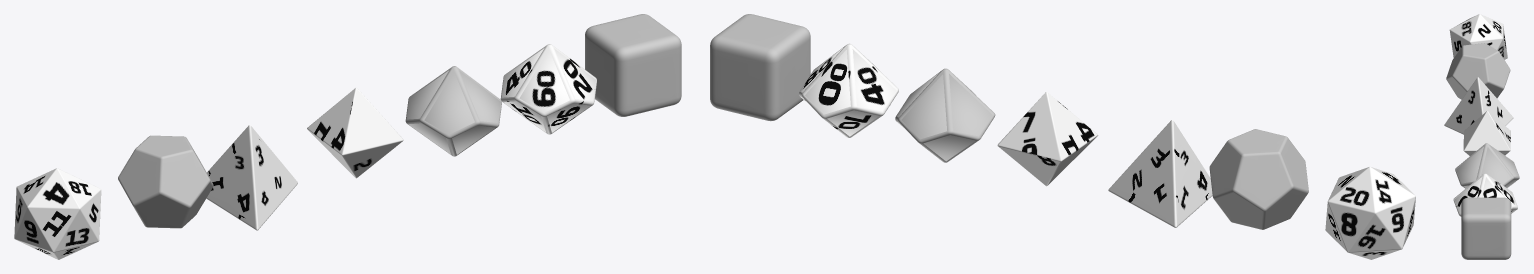
Rendered from Dados_ui.FBX.
The picture shows the model from 3 angles, left to right: view 1: azimuth 30°, elevation 25°; view 2: azimuth 150°, elevation 25°; view 3: azimuth 270°, elevation 25°; orthographic projection. The views are drawn at different scales.
Visible parts, largest first — view 1: D6, d12, d20, d10, d00, d4, d8; view 2: D6, d12, d20, d4, d10, d00, d8; view 3: D6, d12, d4, d10, d20, d8, d00.
Boxes of the visible parts, <box> form: D6: <box>585,14,681,116</box>; d12: <box>118,135,213,228</box>; d20: <box>14,168,101,259</box>; d10: <box>405,66,501,156</box>; d00: <box>500,44,596,134</box>; d4: <box>206,125,297,230</box>; d8: <box>307,87,403,178</box>; D6: <box>710,14,810,121</box>; d12: <box>1209,129,1308,229</box>; d20: <box>1325,166,1415,259</box>; d4: <box>1108,120,1212,227</box>; d10: <box>895,68,995,162</box>; d00: <box>799,43,898,137</box>; d8: <box>997,92,1098,186</box>; D6: <box>1461,197,1511,259</box>; d12: <box>1446,43,1510,99</box>; d4: <box>1444,77,1513,134</box>; d10: <box>1455,143,1519,188</box>; d20: <box>1449,14,1507,59</box>; d8: <box>1463,110,1510,155</box>; d00: <box>1453,173,1517,216</box>.
Bounding box in the file's own units: 66.41 × 8.99 × 10.13.
